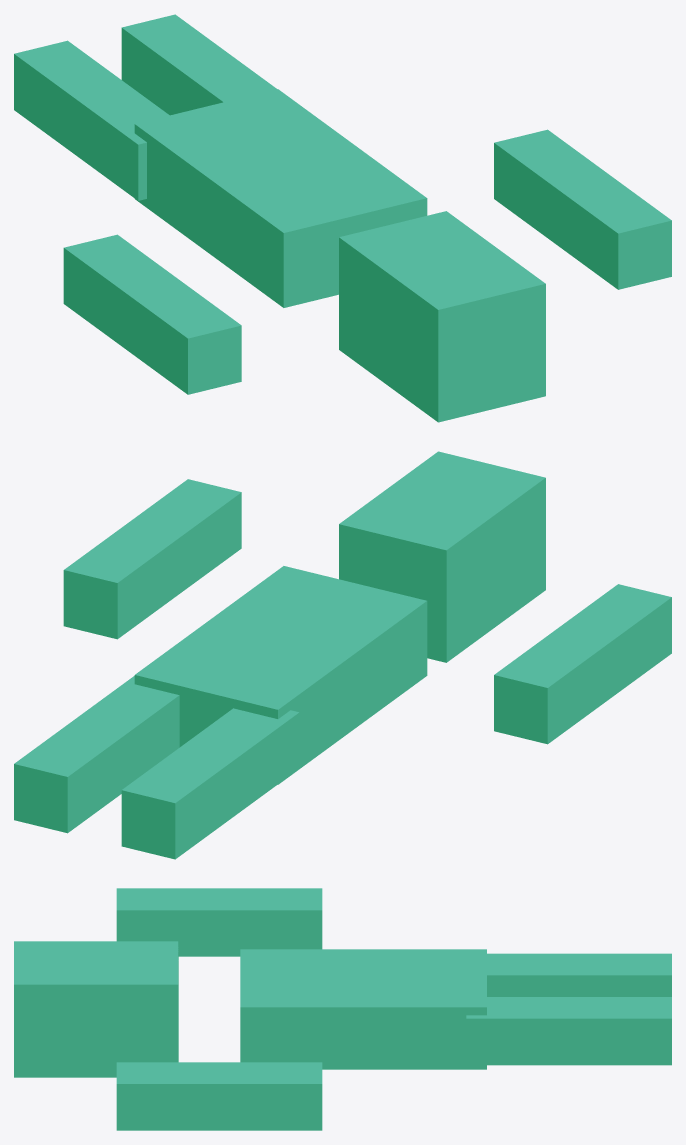
File: anubis_boss_hades.glb
The picture shows the model from 3 angles, top to bottom: view 1: azimuth 30°, elevation 25°; view 2: azimuth 150°, elevation 25°; view 3: azimuth 270°, elevation 25°; orthographic projection. The views are drawn at different scales.
Visible parts, largest first — view 1: anubis_boss; view 2: anubis_boss; view 3: anubis_boss.
Part boxes in pixels (x1=…): anubis_boss: x1=14, y1=14, x2=671, y2=422; anubis_boss: x1=14, y1=451, x2=671, y2=859; anubis_boss: x1=14, y1=888, x2=671, y2=1130.
Size of the model in its own units: 4.05 by 0.9 by 5.76.
